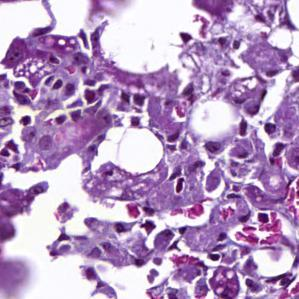ballooning: (89, 122, 164, 179)
